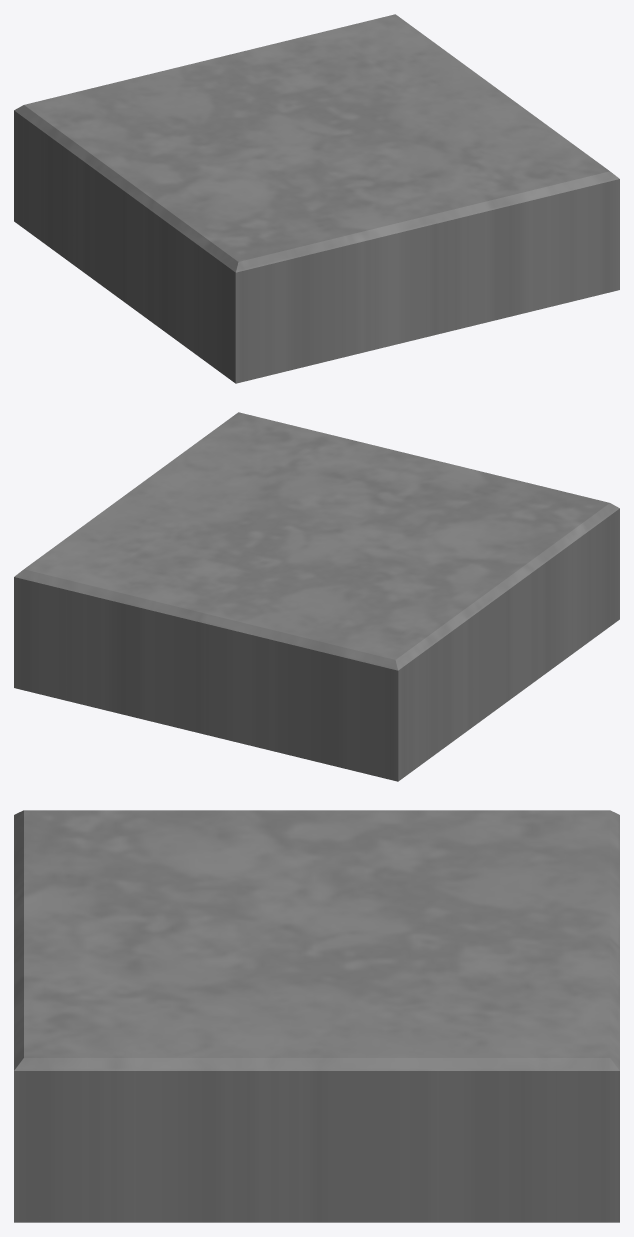
Rendered from small_tile.fbx.
3 renders of one model, top to bottom at view 1: azimuth 30°, elevation 25°; view 2: azimuth 150°, elevation 25°; view 3: azimuth 270°, elevation 25°, orthographic. The views are drawn at different scales.
Visible parts, largest first — view 1: pCube23; view 2: pCube23; view 3: pCube23.
Part boxes in pixels (box(x1,y1,x2,y2)): pCube23: box(14, 14, 619, 383); pCube23: box(14, 412, 619, 781); pCube23: box(14, 810, 619, 1222).
Bounding box in the file's own units: 20 × 5.85 × 20.
